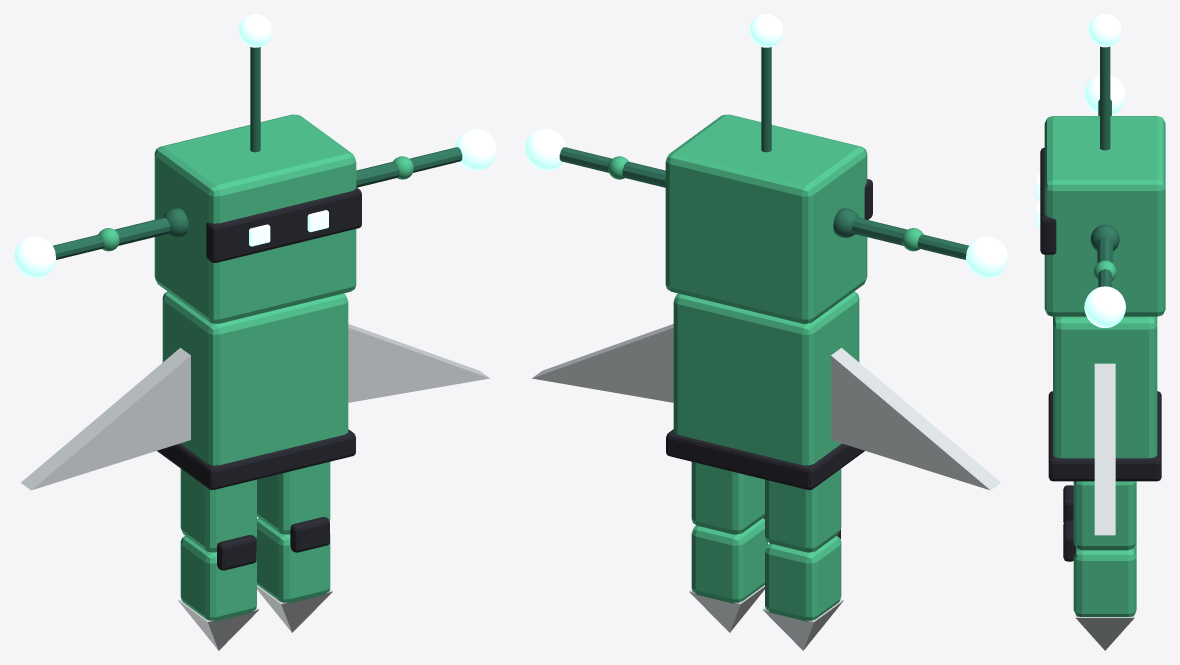
The model's file is ninja-lo.glb.
3 views of the same model, side by side, from view 1: azimuth 30°, elevation 25°; view 2: azimuth 150°, elevation 25°; view 3: azimuth 270°, elevation 25° (orthographic).
Parts seen in each view (by area): view 1: NJ_HeadBox, NJ_Torso, NJ_FinL, NJ_FinR, NJ_Mask, NJ_Belt, NJ_Thigh_L, NJ_Shin_L, NJ_Shin_R, NJ_Thigh_R, NJ_Hand_L, NJ_Hand_R (+10 smaller); view 2: NJ_HeadBox, NJ_Torso, NJ_FinL, NJ_FinR, NJ_Shin_L, NJ_Shin_R, NJ_Thigh_L, NJ_Belt, NJ_Thigh_R, NJ_Hand_L, NJ_Hand_R, NJ_Toe_L (+7 smaller); view 3: NJ_HeadBox, NJ_Torso, NJ_Shin_R, NJ_FinR, NJ_Thigh_R, NJ_Belt, NJ_Hand_R, NJ_Antenna, NJ_Toe_R, NJ_Mask, NJ_Hand_L, NJ_AntennaTip (+6 smaller).
Part boxes in pixels (x1,y1,x2,y2): NJ_HeadBox: [154, 114, 356, 323]; NJ_Torso: [162, 291, 348, 465]; NJ_FinL: [21, 348, 190, 490]; NJ_FinR: [348, 324, 489, 402]; NJ_Mask: [206, 187, 361, 262]; NJ_Belt: [157, 429, 355, 489]; NJ_Thigh_L: [180, 469, 256, 552]; NJ_Shin_L: [180, 536, 256, 621]; NJ_Shin_R: [256, 518, 330, 603]; NJ_Thigh_R: [257, 462, 330, 534]; NJ_Hand_L: [14, 236, 56, 278]; NJ_Hand_R: [455, 129, 496, 170]; NJ_HeadBox: [665, 114, 867, 323]; NJ_Torso: [673, 291, 859, 465]; NJ_FinL: [831, 348, 1000, 490]; NJ_FinR: [532, 324, 673, 402]; NJ_Shin_L: [765, 536, 841, 621]; NJ_Shin_R: [691, 518, 767, 603]; NJ_Thigh_L: [765, 469, 841, 552]; NJ_Belt: [666, 429, 864, 489]; NJ_Thigh_R: [691, 462, 764, 534]; NJ_Hand_L: [965, 236, 1007, 278]; NJ_Hand_R: [525, 129, 566, 170]; NJ_Toe_L: [762, 599, 843, 650]; NJ_HeadBox: [1044, 116, 1165, 316]; NJ_Torso: [1053, 316, 1157, 458]; NJ_Shin_R: [1073, 542, 1136, 616]; NJ_FinR: [1094, 363, 1115, 535]; NJ_Thigh_R: [1073, 481, 1136, 550]; NJ_Belt: [1048, 391, 1161, 481]; NJ_Hand_R: [1084, 286, 1125, 327]; NJ_Antenna: [1100, 46, 1110, 150]; NJ_Toe_R: [1075, 615, 1134, 650]; NJ_Mask: [1040, 147, 1056, 254]; NJ_Hand_L: [1084, 75, 1125, 114]; NJ_AntennaTip: [1088, 14, 1121, 47].
Size of the model in its own units: 2.6 by 3.26 by 0.62.
